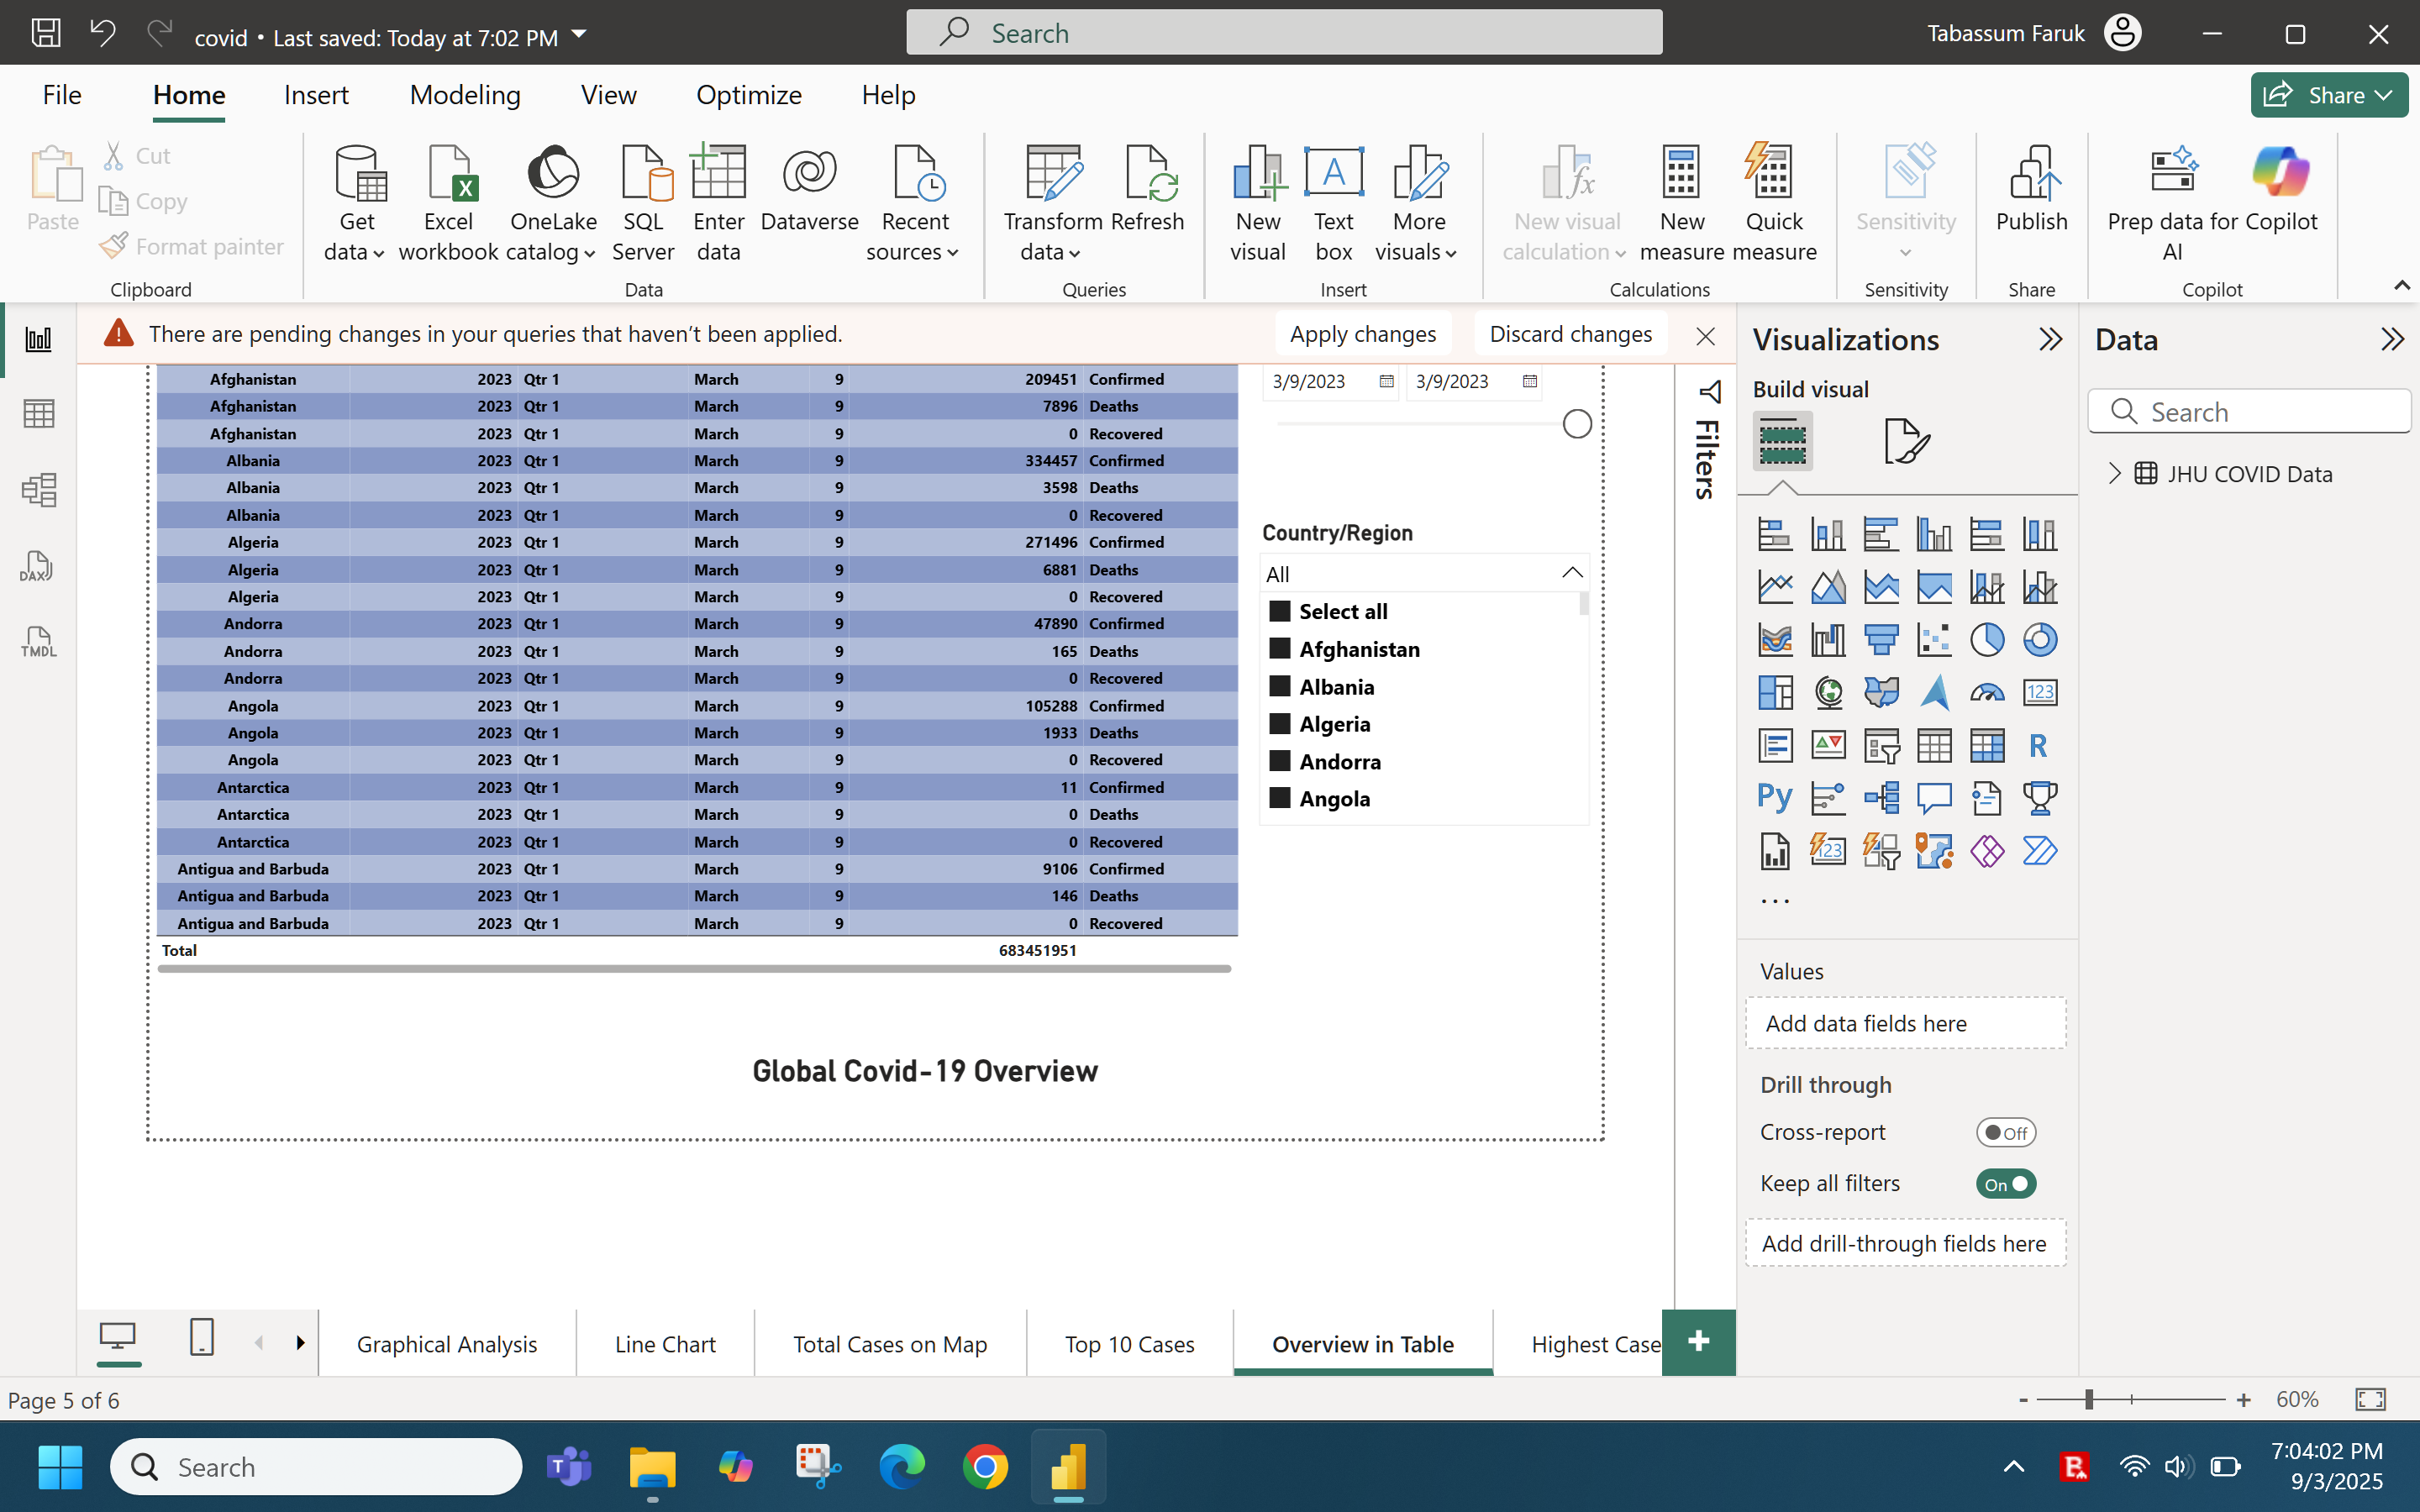

This screenshot's page, from the dashboard's own definition file:
{"tool":"powerbi","page":{"name":"Overview in Table","canvas":[1280,720],"ordinal":4},"visuals":[{"type":"tableEx","fields":{"Values":["JHU COVID Data.Country/Region","JHU COVID Data.Date.Variation.Date Hierarchy.Year","JHU COVID Data.Date.Variation.Date Hierarchy.Quarter","JHU COVID Data.Date.Variation.Date Hierarchy.Month","JHU COVID Data.Date.Variation.Date Hierarchy.Day","JHU COVID Data.Total Cases","JHU COVID Data.Metric_Type"]},"box":[0,0,973.3,580],"z":0},{"type":"textbox","title":"Global Covid-19 Overview","box":[381.7,645,605,75],"z":1000},{"type":"slicer","fields":{"Values":["JHU COVID Data.Country/Region"]},"box":[968.3,170,311.7,135],"z":2000},{"type":"slicer","fields":{"Values":["JHU COVID Data.Date"]},"box":[968.3,0,311.7,170],"z":3000}]}

Visuals, with their boxes on the page's 1280x720 design canvas (x1, y1, x2, y2). These are canvas units, not pixel positions in the 2420x1512 screenshot, which may show the page scaled, cropped or inside an application window:
tableEx - JHU COVID Data.Country/Region x JHU COVID Data.Date.Variation.Date Hierarchy.Year: locate(0, 0, 973, 580)
"Global Covid-19 Overview" textbox: locate(382, 645, 987, 720)
slicer - JHU COVID Data.Country/Region: locate(968, 170, 1280, 305)
slicer - JHU COVID Data.Date: locate(968, 0, 1280, 170)
